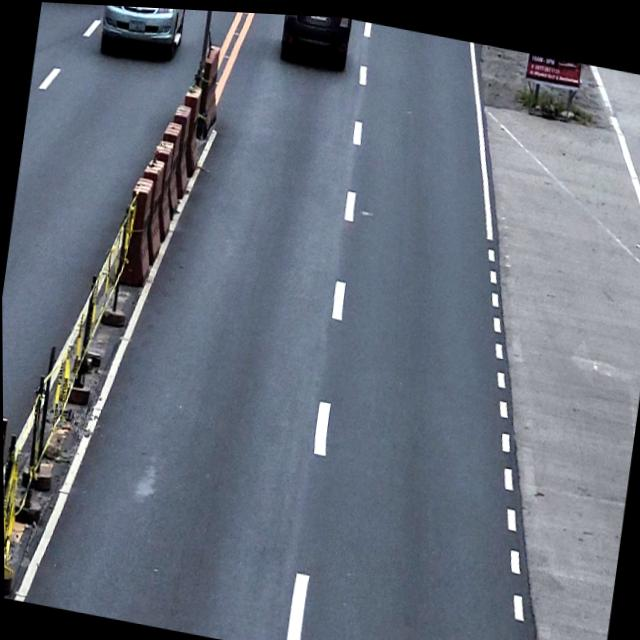Car: (98, 4, 190, 63), (277, 11, 352, 71)
License-Plate: (127, 17, 146, 32), (310, 13, 327, 17)
